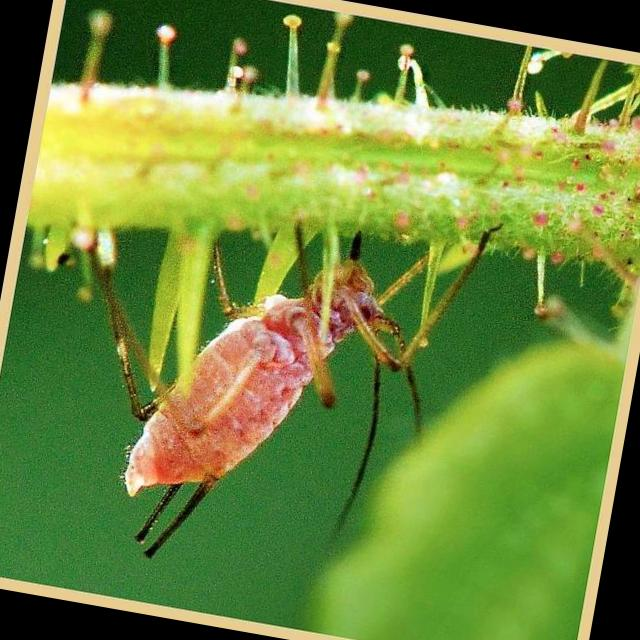aphid: (32, 119, 495, 610)
